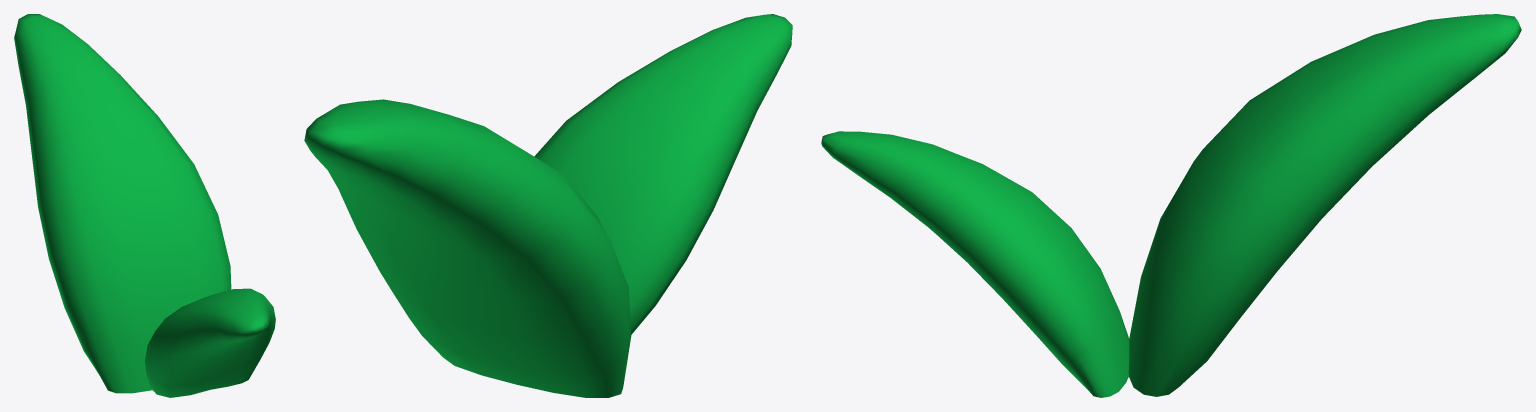
The model's file is City_2_Grass_2.glb.
The picture shows the model from 3 angles, left to right: view 1: azimuth 30°, elevation 25°; view 2: azimuth 150°, elevation 25°; view 3: azimuth 270°, elevation 25°; orthographic projection. The views are drawn at different scales.
Visible parts, largest first — view 1: City_2_Grass_2; view 2: City_2_Grass_2; view 3: City_2_Grass_2.
Boxes of the visible parts, x1=… form: City_2_Grass_2: x1=14, y1=14, x2=275, y2=397; City_2_Grass_2: x1=304, y1=14, x2=792, y2=397; City_2_Grass_2: x1=821, y1=14, x2=1521, y2=397.
Size of the model in its own units: 0.3494 by 0.5393 by 1.
Materials: 1 (1 with a texture image).
